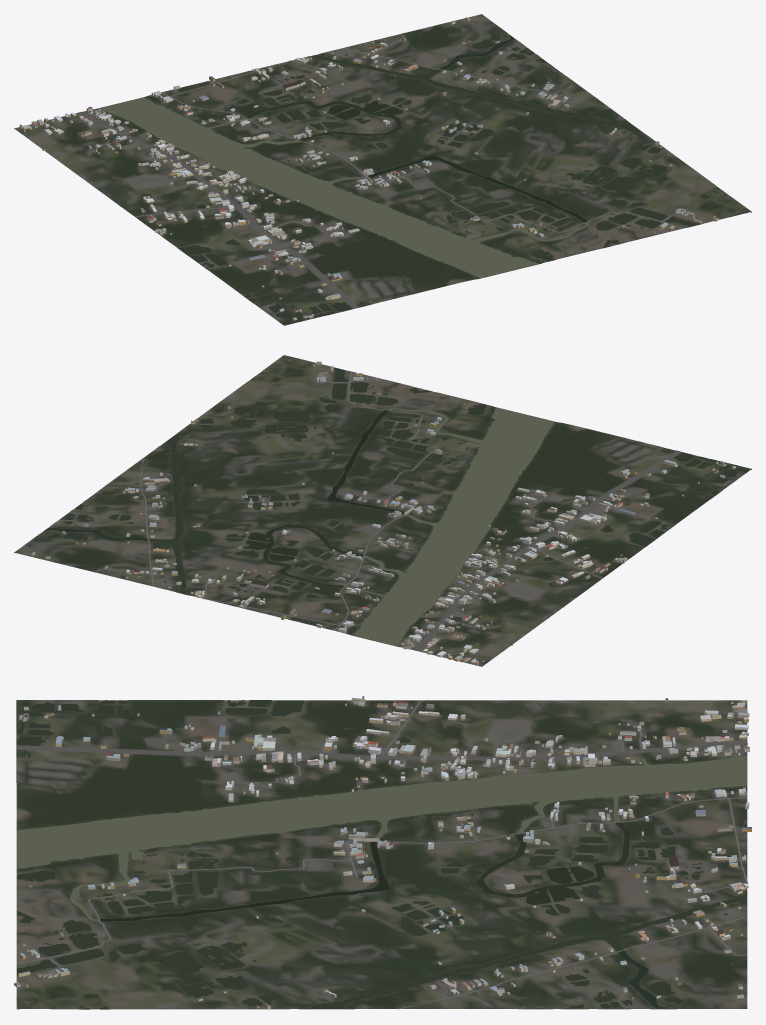
The picture shows the model from 3 angles, top to bottom: view 1: azimuth 30°, elevation 25°; view 2: azimuth 150°, elevation 25°; view 3: azimuth 270°, elevation 25°; orthographic projection. The views are drawn at different scales.
Visible parts, largest first — view 1: ground, water, buildings, roads; view 2: ground, water, buildings, roads; view 3: ground, water, buildings, roads.
Part boxes in pixels (x1=…): ground: x1=14, y1=14, x2=751, y2=325; water: x1=98, y1=33, x2=726, y2=318; buildings: x1=19, y1=17, x2=718, y2=320; roads: x1=75, y1=34, x2=684, y2=308; ground: x1=14, y1=355, x2=751, y2=666; water: x1=43, y1=367, x2=737, y2=646; buildings: x1=31, y1=361, x2=735, y2=665; roads: x1=96, y1=371, x2=682, y2=651; ground: x1=16, y1=700, x2=747, y2=1009; water: x1=17, y1=700, x2=746, y2=1008; buildings: x1=14, y1=696, x2=751, y2=1009; roads: x1=16, y1=700, x2=748, y2=1009.
Size of the model in its own units: 1405 by 15.31 by 1414.
